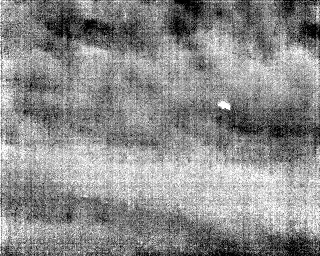BIRD: (215, 98, 234, 113)
